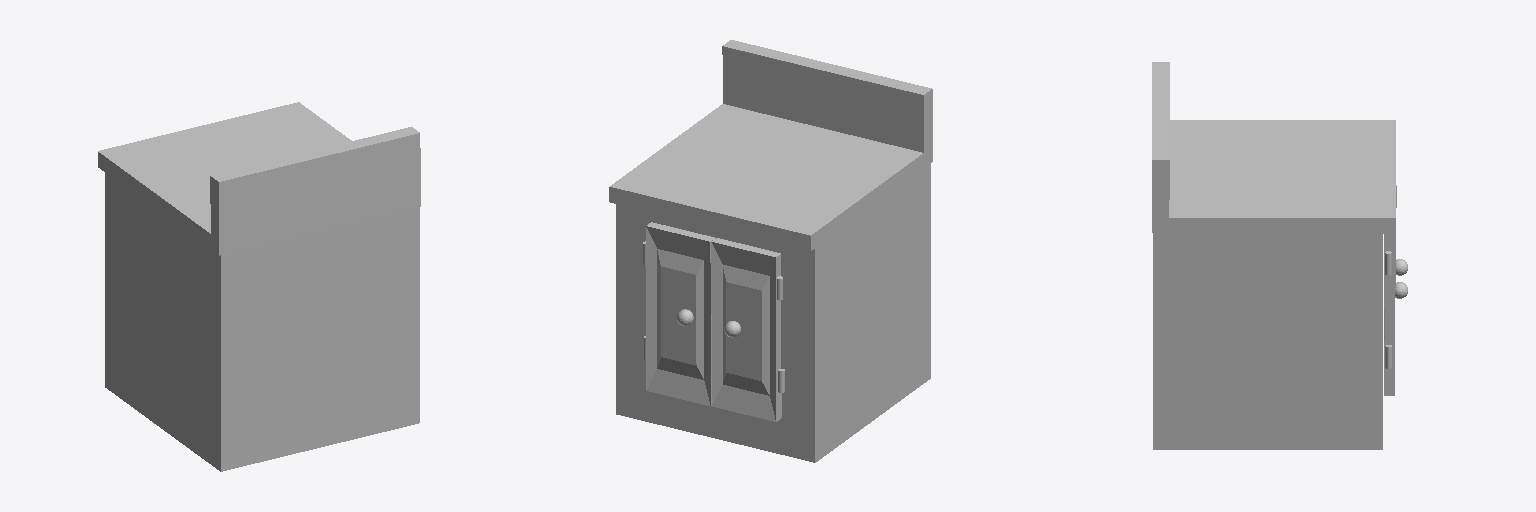
The model's file is sidecountertop.obj.
3 renders of one model, left to right at view 1: azimuth 30°, elevation 25°; view 2: azimuth 150°, elevation 25°; view 3: azimuth 270°, elevation 25°, orthographic.
Parts seen in each view (by area): view 1: counter, uppercounter, lowercounter; view 2: counter, lowercounter, doors, uppercounter; view 3: counter, lowercounter, uppercounter, doors.
Part boxes in pixels (x1,y1,x2,y2): counter: (105,173,419,471); uppercounter: (210,127,420,255); lowercounter: (98,102,351,254); counter: (616,164,930,462); lowercounter: (609,104,930,251); doors: (643,222,784,421); uppercounter: (722,40,932,167); counter: (1153,229,1382,449); lowercounter: (1154,120,1395,233); uppercounter: (1152,62,1169,232); doors: (1384,185,1396,395).
Size of the model in its own units: 3.82 by 5.26 by 4.21.